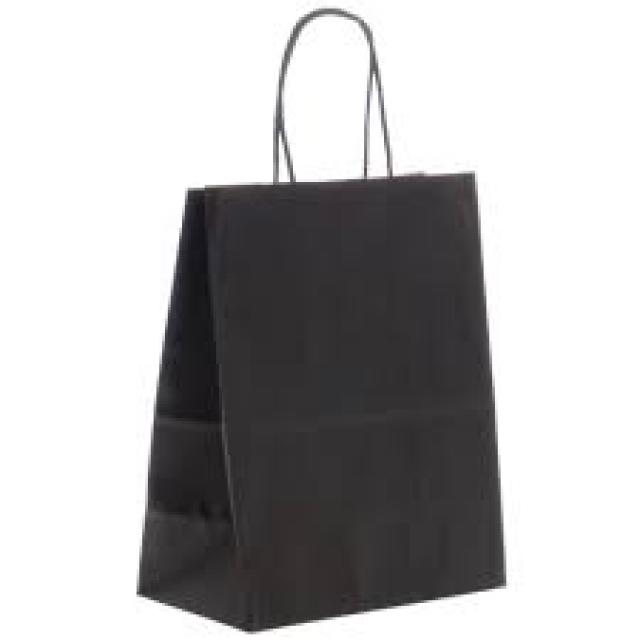paper bag: (134, 3, 520, 631)
